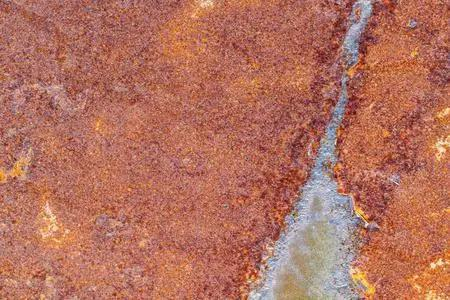Corrosion: (1, 1, 361, 300), (320, 1, 450, 300)
